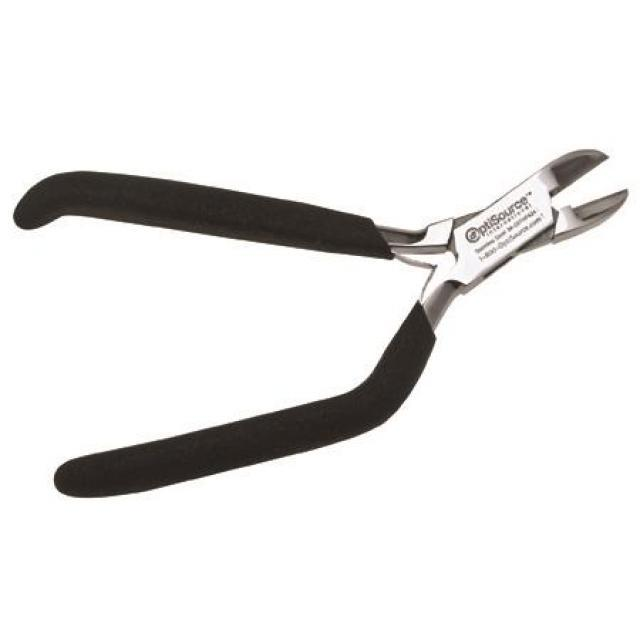pliers: (9, 143, 634, 508)
